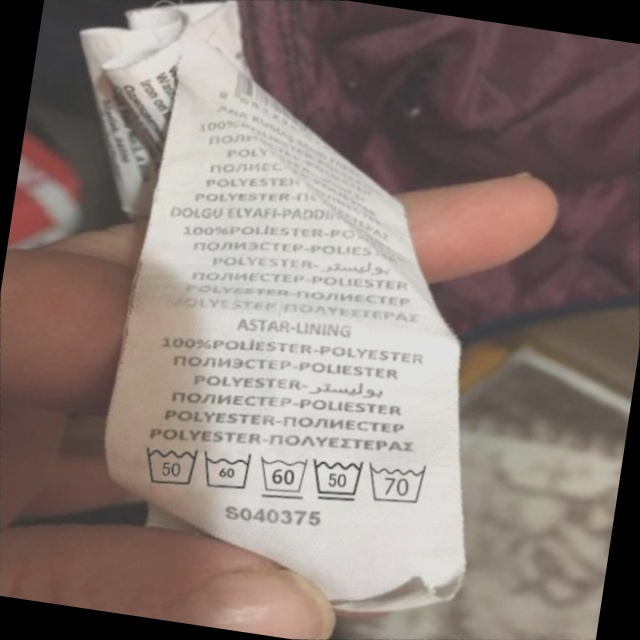50C: (132, 430, 209, 499), (303, 447, 374, 512)
60C: (251, 444, 319, 508), (195, 440, 262, 502)
70C: (362, 451, 439, 515)
